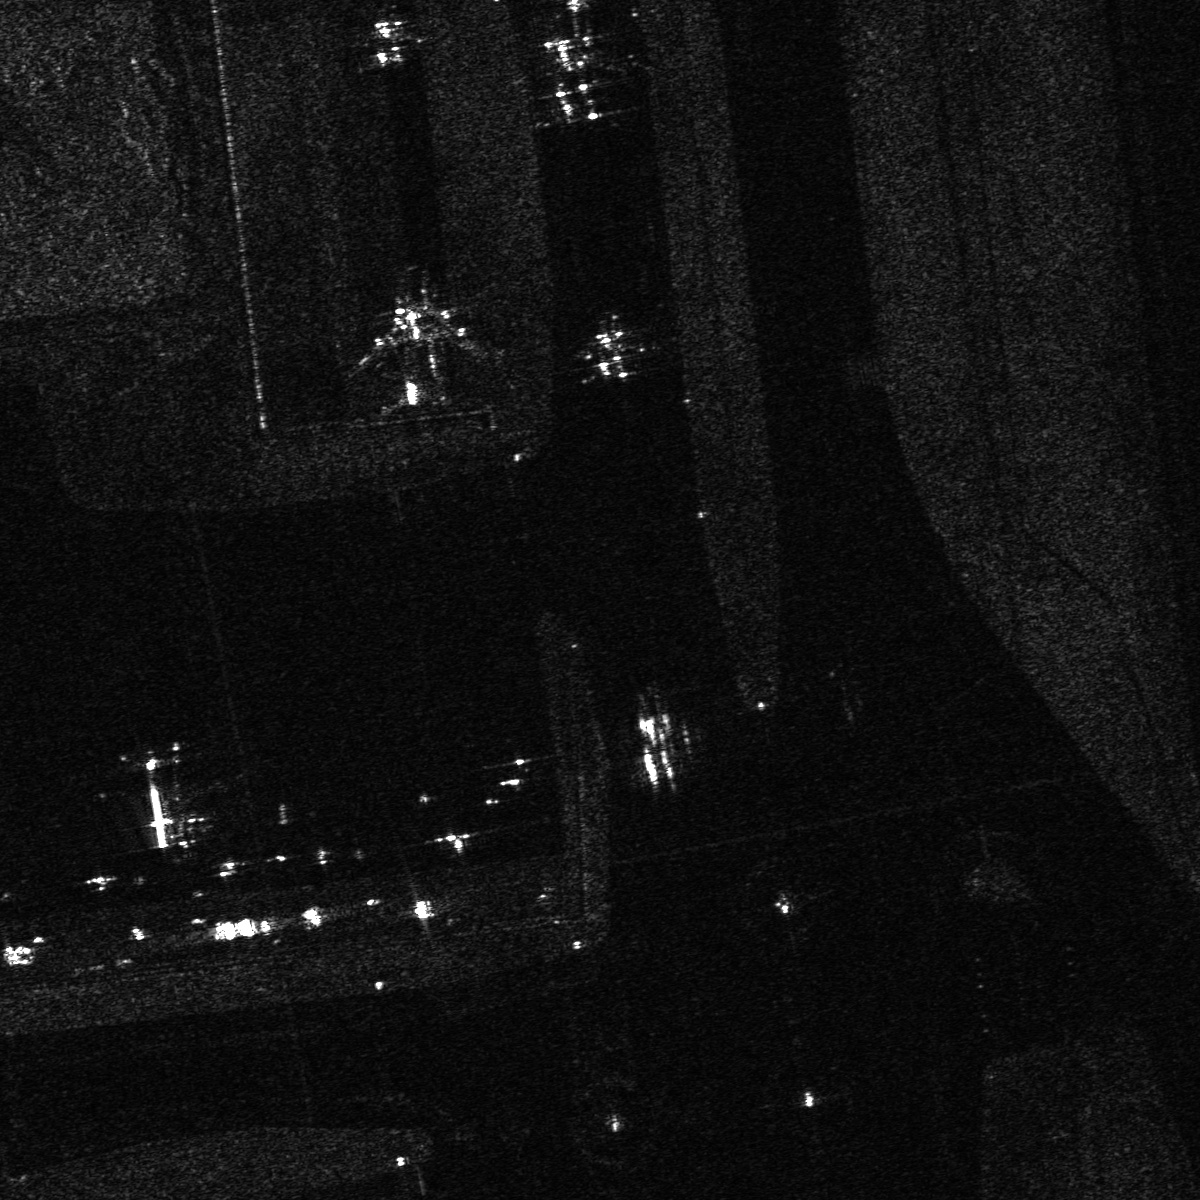A220: (349, 5, 429, 73)
A330: (559, 312, 662, 397)
Boeing787: (93, 731, 227, 849)
other: (334, 284, 492, 416)
